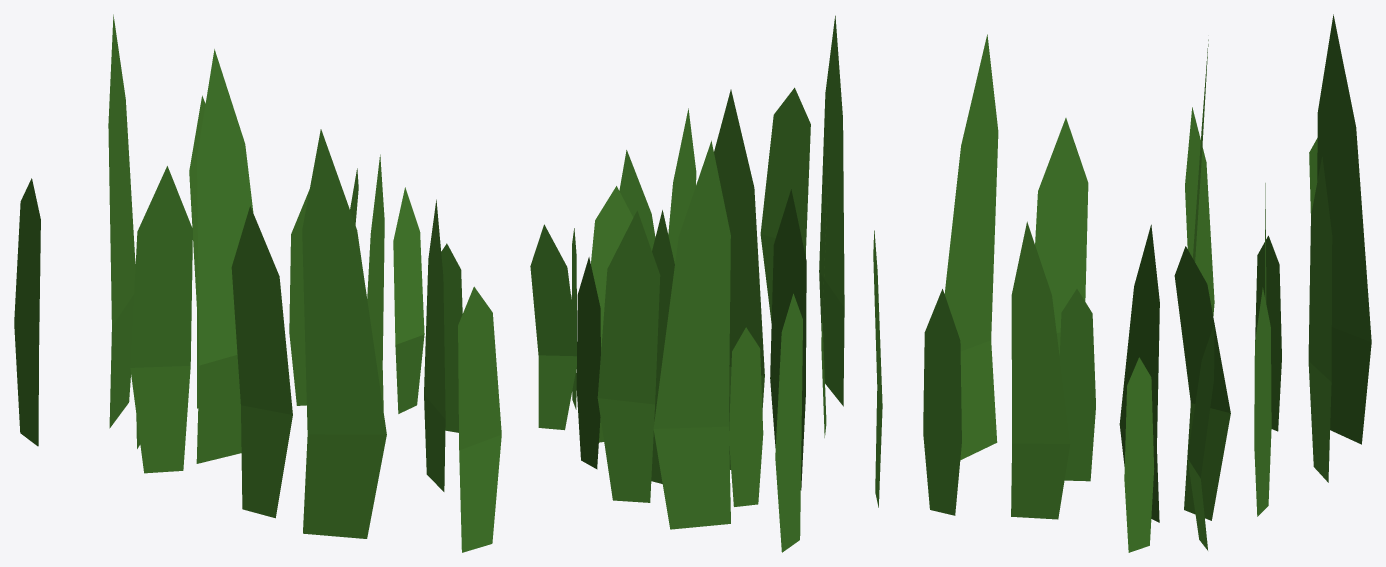
File: grass.glb
The picture shows the model from 3 angles, left to right: view 1: azimuth 30°, elevation 25°; view 2: azimuth 150°, elevation 25°; view 3: azimuth 270°, elevation 25°; orthographic projection. The views are drawn at different scales.
Parts seen in each view (by area): view 1: Plane.001; view 2: Plane.001; view 3: Plane.001.
Part boxes in pixels (x1=…): Plane.001: x1=14, y1=14, x2=501, y2=552; Plane.001: x1=530, y1=15, x2=844, y2=552; Plane.001: x1=873, y1=14, x2=1371, y2=552.
Size of the model in its own units: 2.36 by 2.75 by 2.98.
